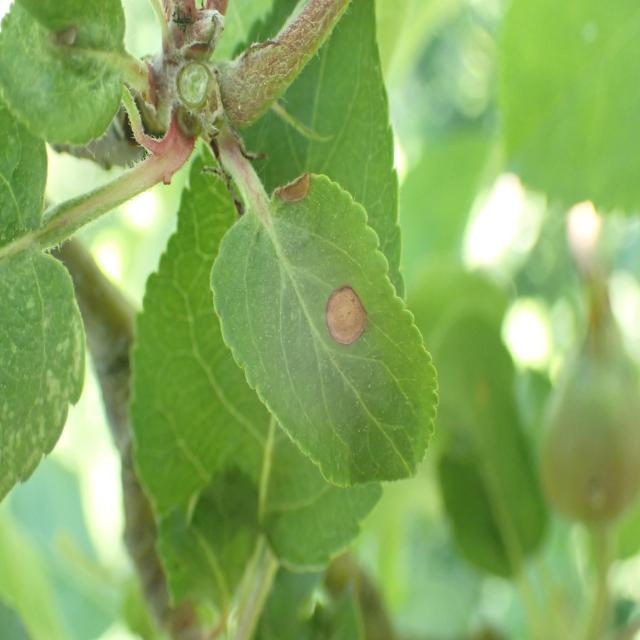Black Rot: (314, 276, 377, 364), (262, 157, 334, 212)
